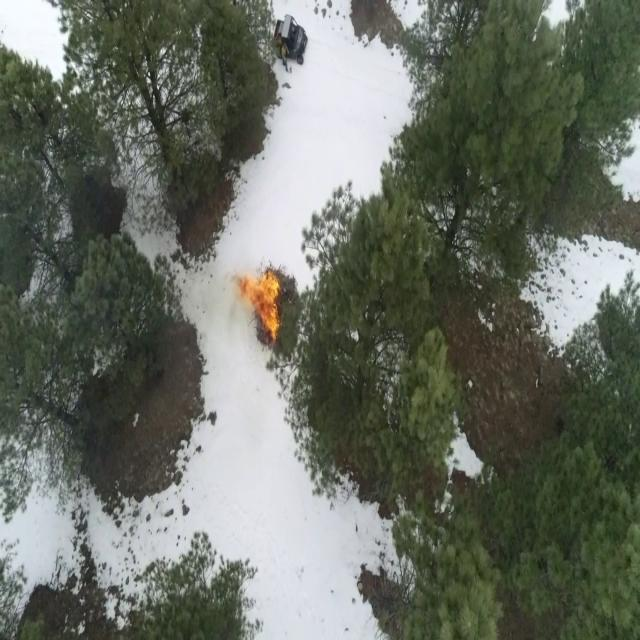fire: (240, 269, 280, 344)
